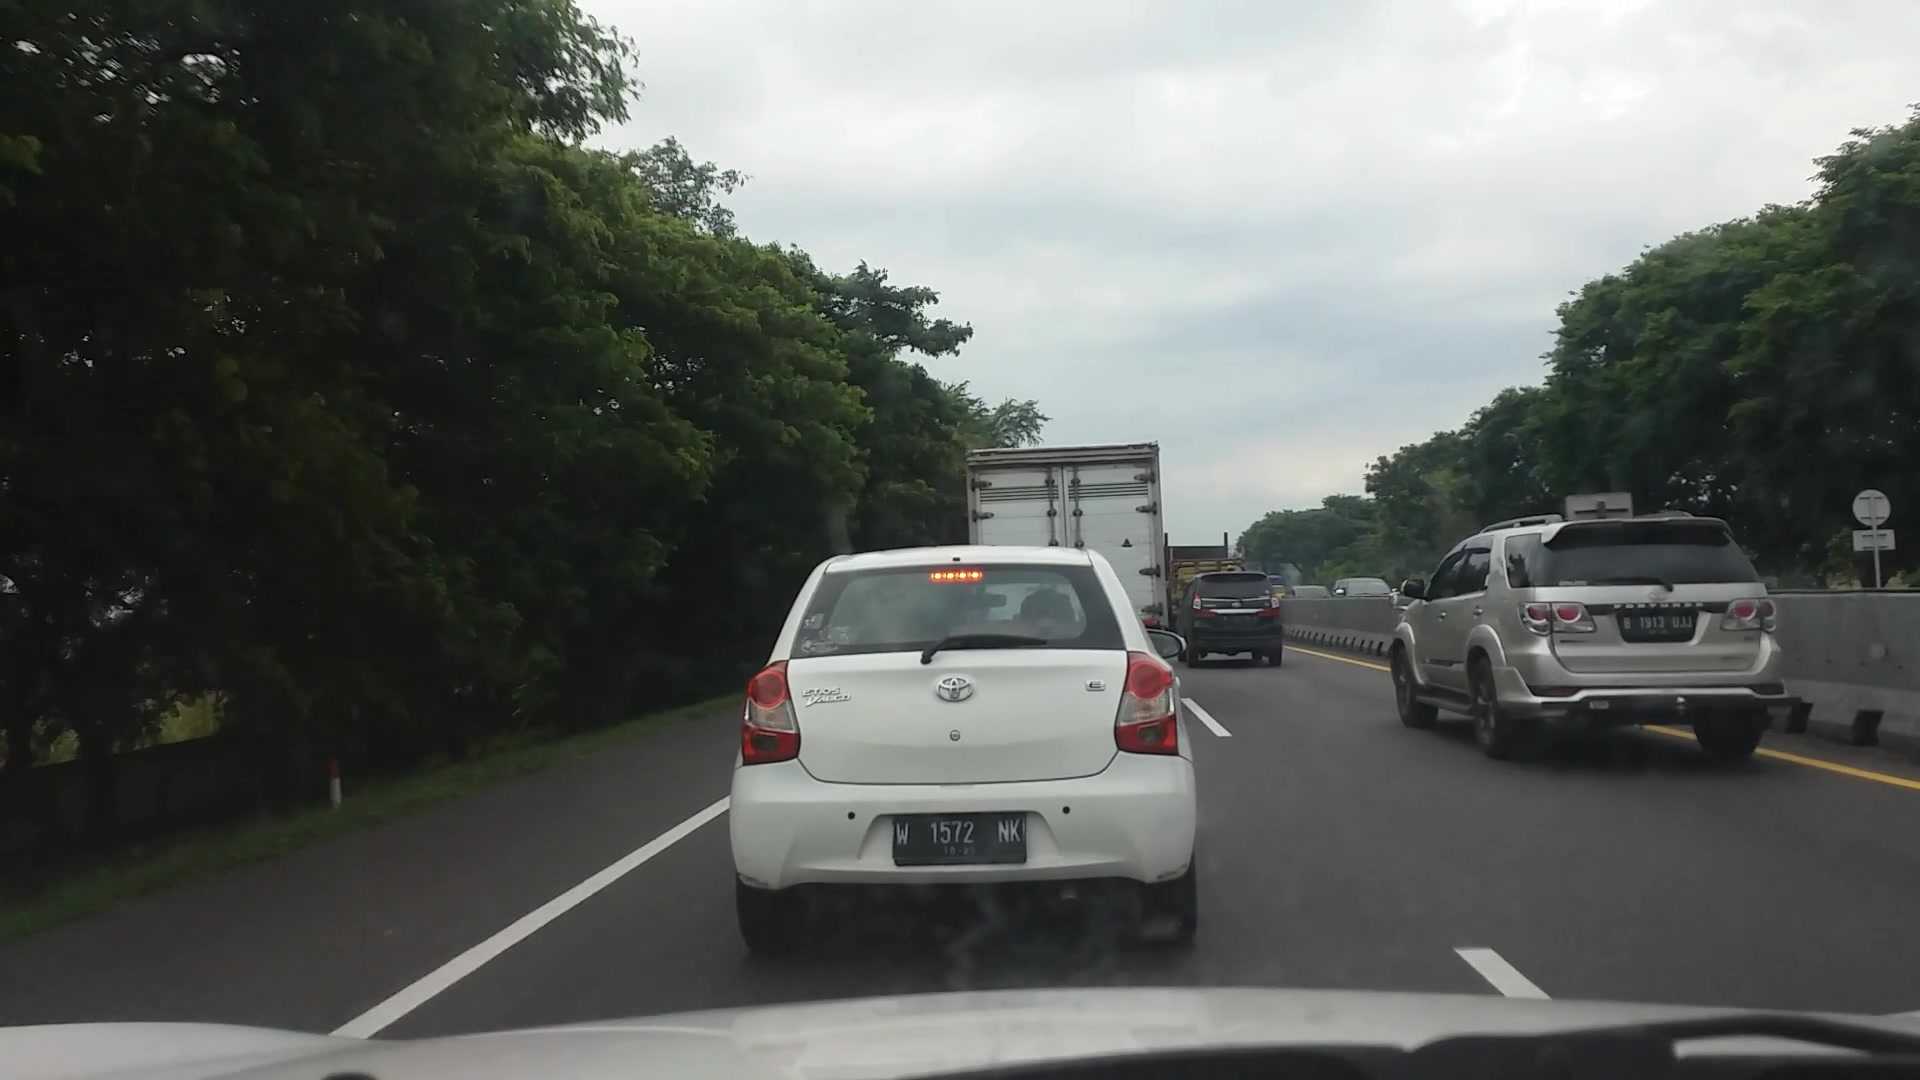plate_positive: (891, 811, 1027, 865), (1621, 613, 1695, 636)
